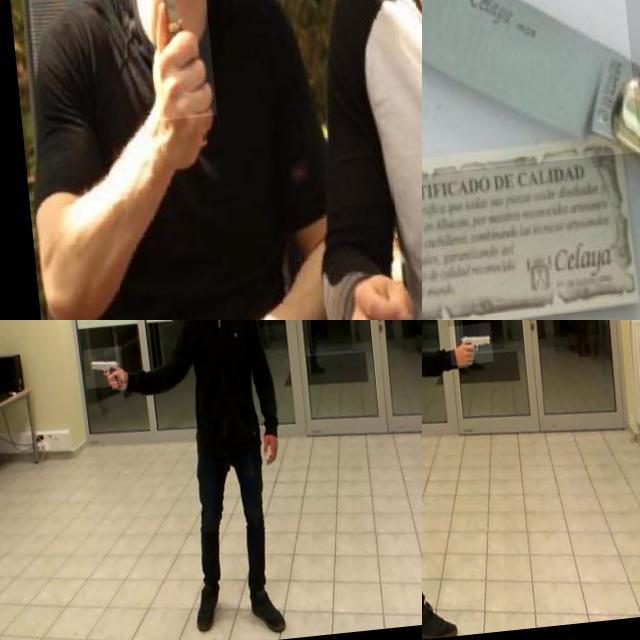-: (422, 0, 633, 182), (133, 0, 208, 124)
gun-knife-thesis - v11 Yolov5 augmented: (441, 332, 486, 374), (76, 350, 117, 392)
